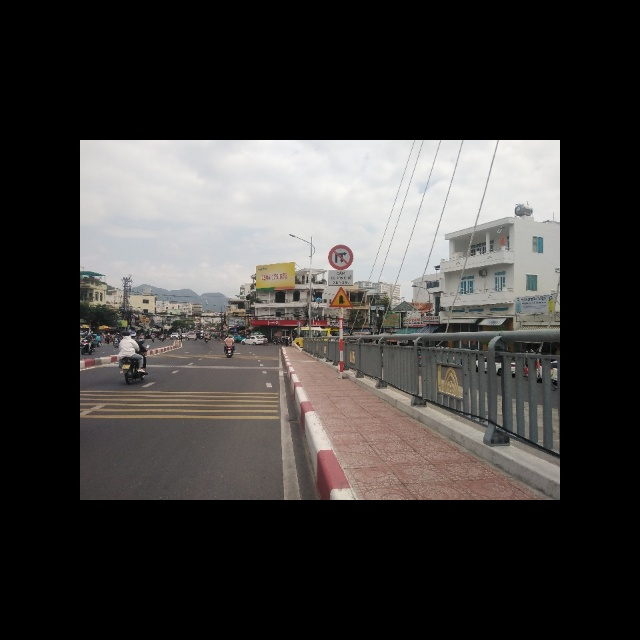Cấm quay đầu và rẽ phải: (328, 244, 353, 270)
Giao nhau với đường không ưu tiên: (329, 287, 354, 308)
